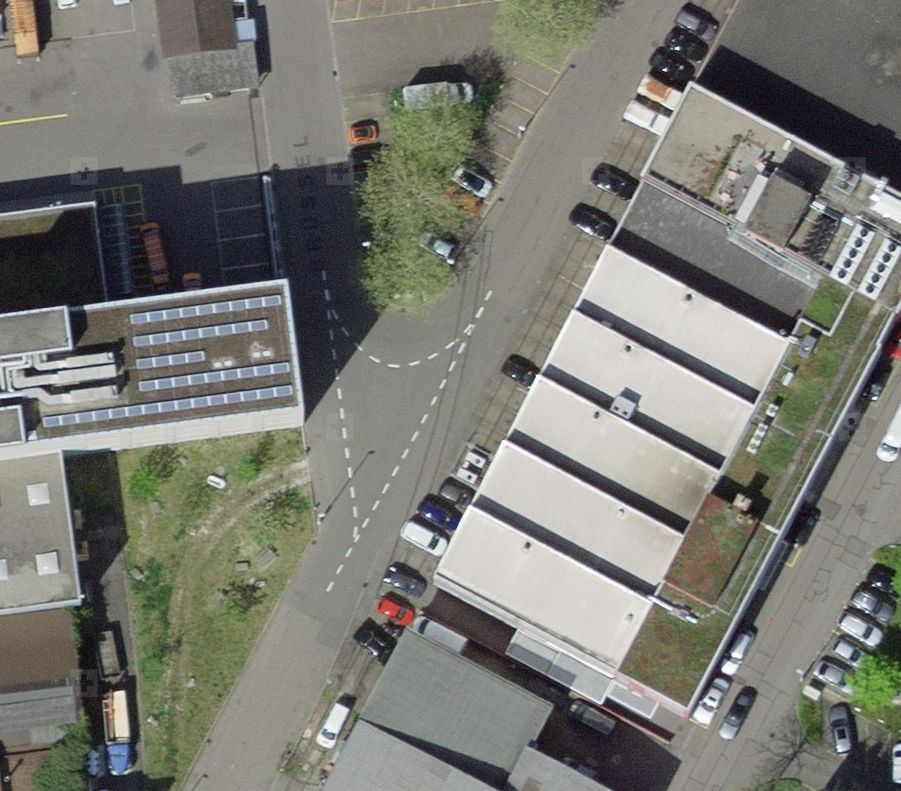solar: (40, 289, 293, 432)
